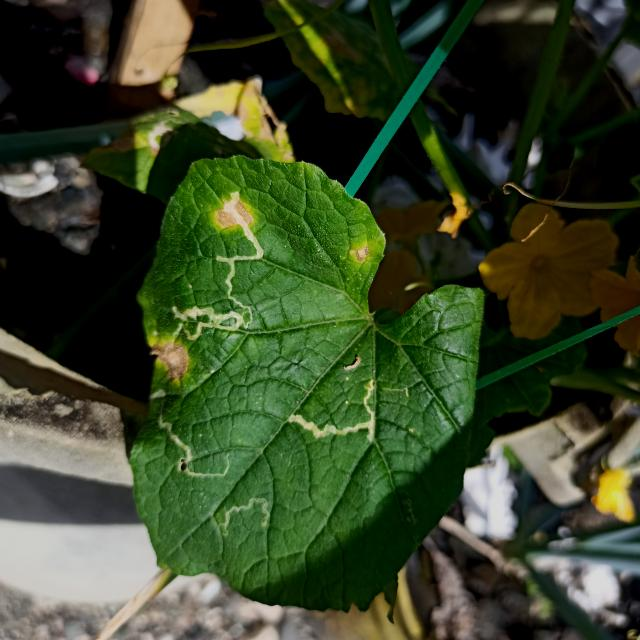disease_cucumber: (151, 334, 193, 381), (213, 196, 254, 228), (350, 242, 370, 268)
